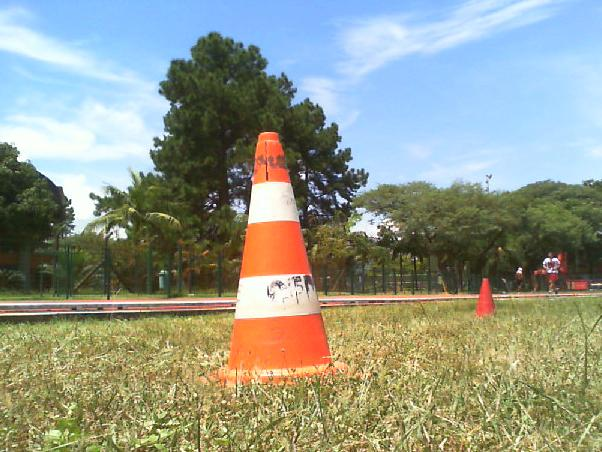0 cone: (213, 131, 342, 375), (473, 277, 499, 314)
